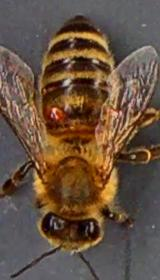varroa_mite: (46, 102, 66, 126)
